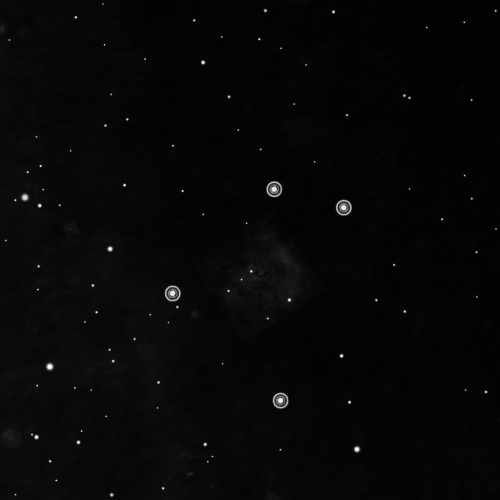coma_berenices: (155, 172, 366, 417)
